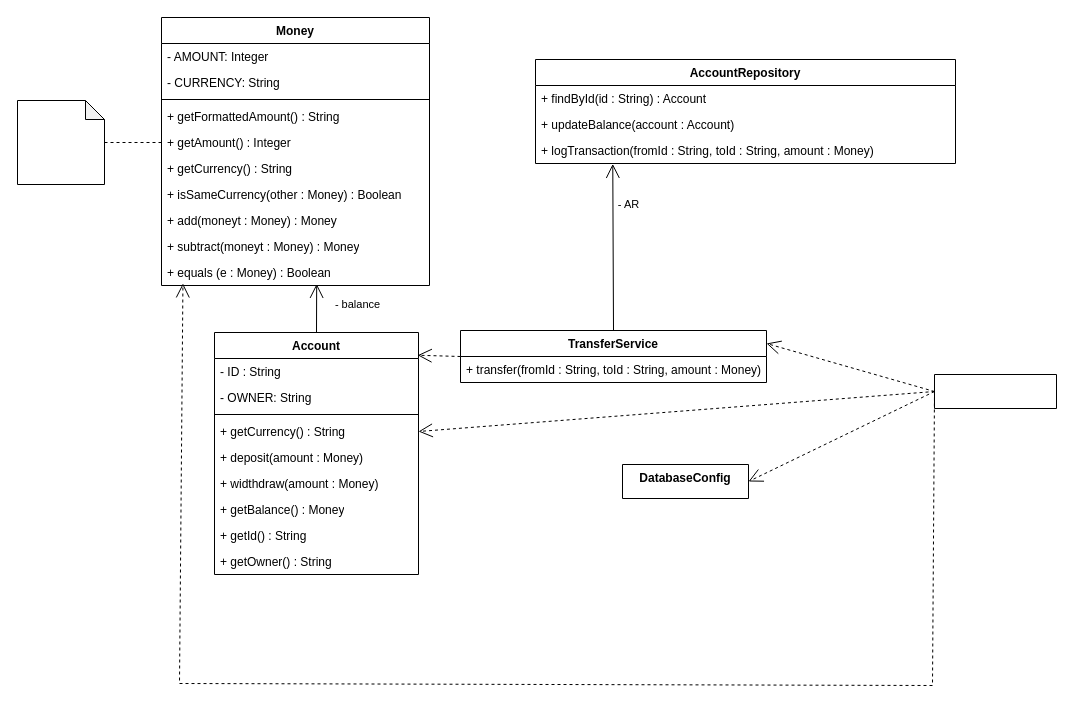
This 1074x717 diagram has some shape labels left out. The centre of each missing label's shape, as x and y in pixels:
App: [995,391]
returns the money amount in cents: [60,142]
